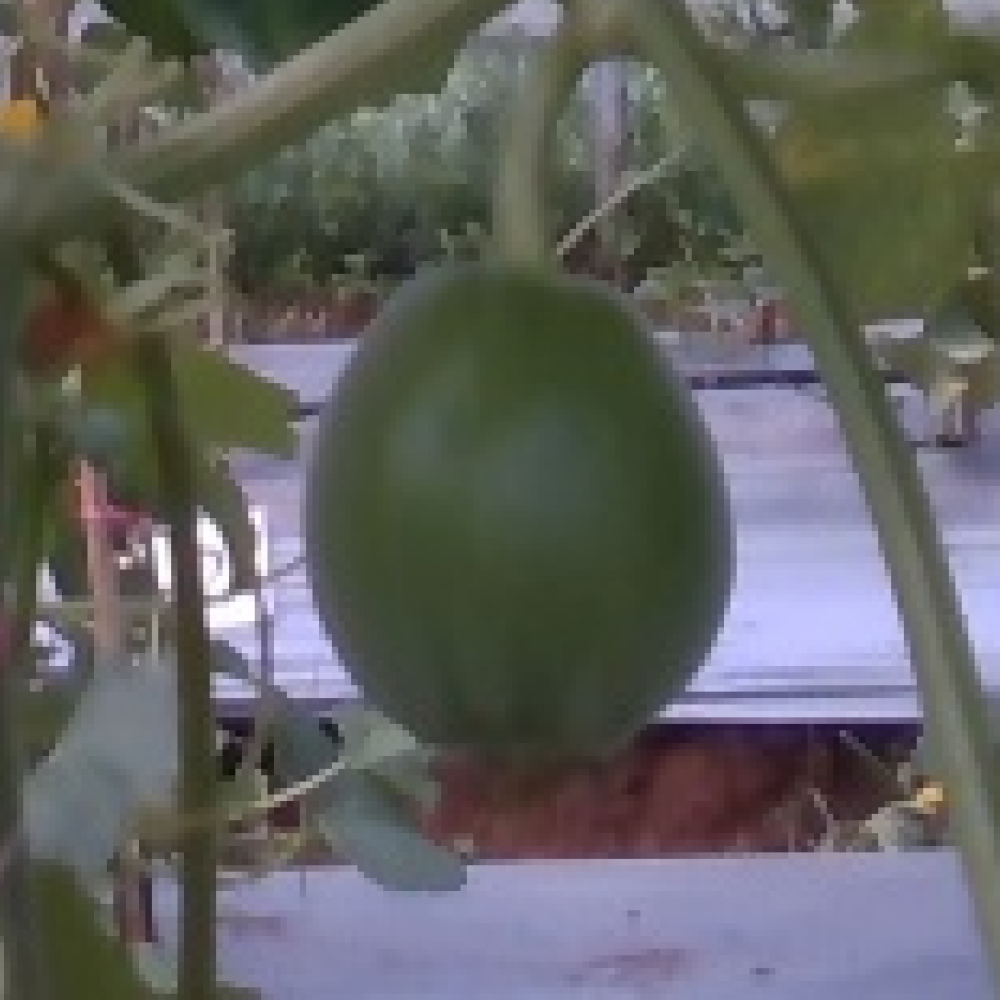melon: (299, 256, 744, 768)
